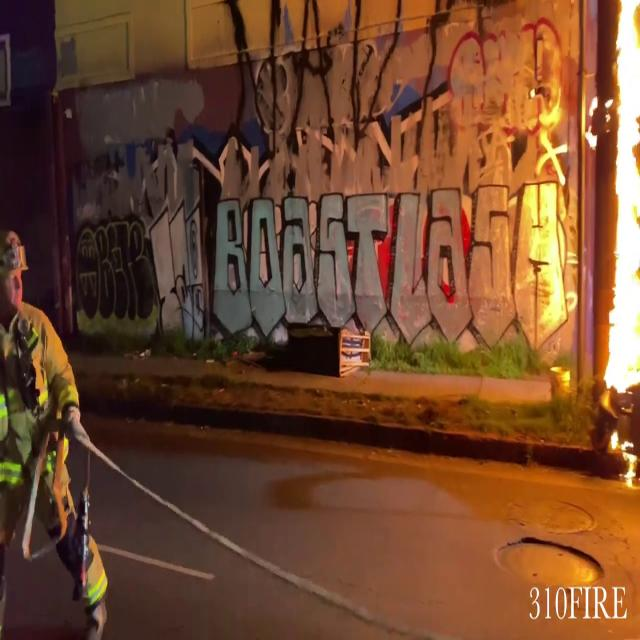Fire: (602, 0, 640, 398), (608, 427, 640, 489)
